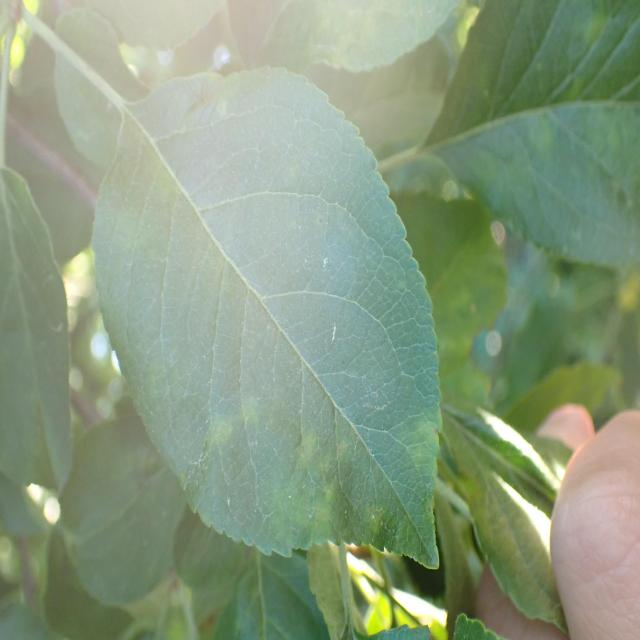scab: (143, 202, 442, 574)
